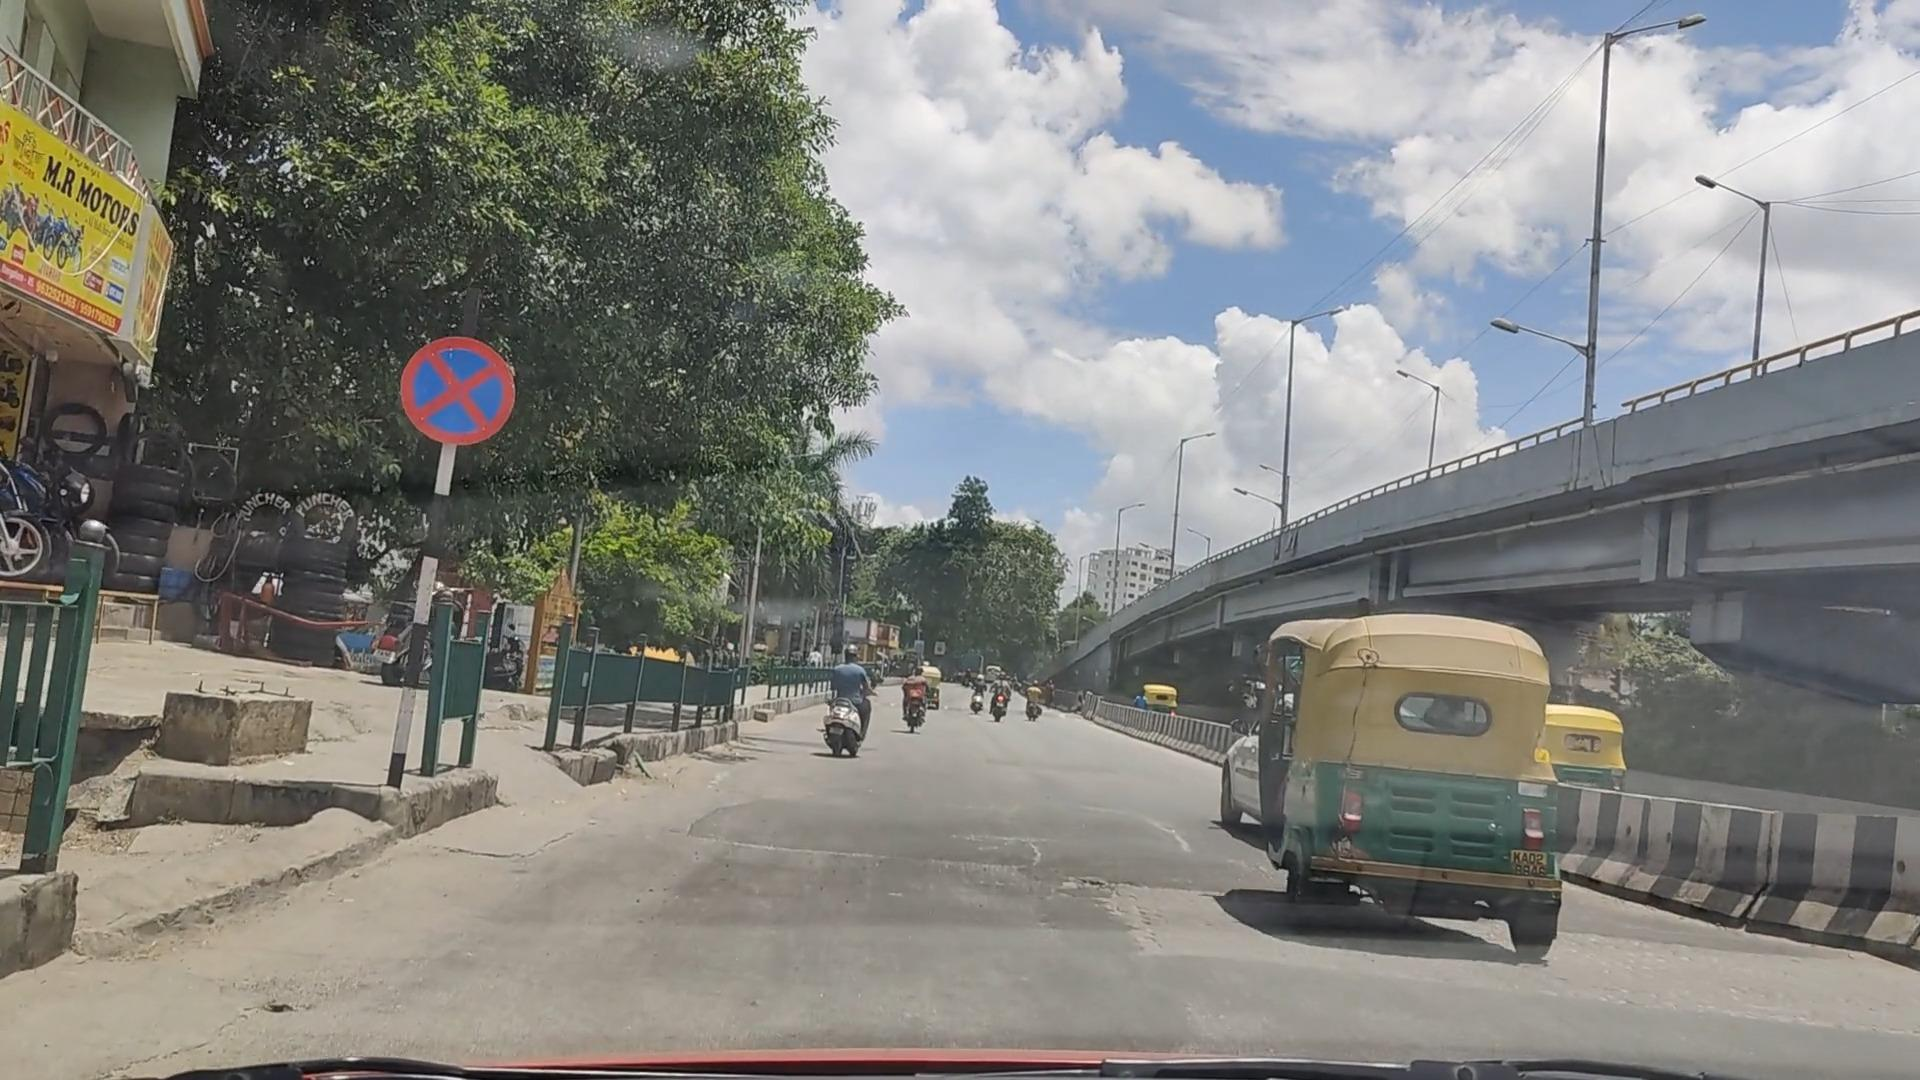LMV: (1283, 605, 1578, 953)
RoadDamages: (963, 861, 1232, 924), (1110, 800, 1191, 851)
